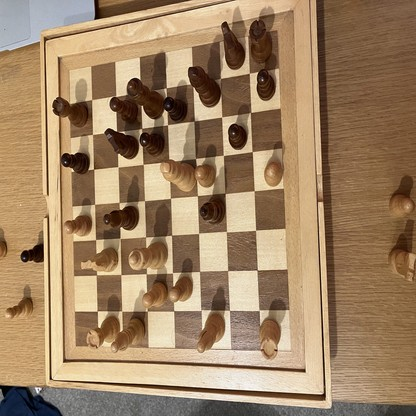bishop_black: (103, 206, 140, 230), (199, 199, 226, 224)
bishop_white: (111, 318, 146, 352), (196, 315, 225, 352)
king_black: (188, 66, 221, 107)
king_white: (161, 160, 197, 194)
knight_black: (221, 22, 244, 69), (105, 127, 138, 159)
knight_white: (387, 249, 416, 283), (81, 247, 119, 272)
pawn_black: (110, 98, 136, 123), (256, 70, 276, 101), (61, 153, 90, 174), (140, 132, 164, 157), (164, 98, 188, 122), (228, 124, 247, 149), (21, 244, 43, 264)
pawn_white: (389, 192, 414, 220), (4, 297, 33, 321), (168, 278, 193, 302), (142, 283, 167, 307), (65, 215, 91, 237), (194, 165, 216, 187), (264, 163, 282, 186)
queen_black: (127, 78, 163, 119)
queen_white: (129, 242, 168, 270)
rock_black: (52, 97, 88, 127), (249, 20, 271, 62)
rock_white: (86, 316, 120, 351), (261, 320, 280, 359)
